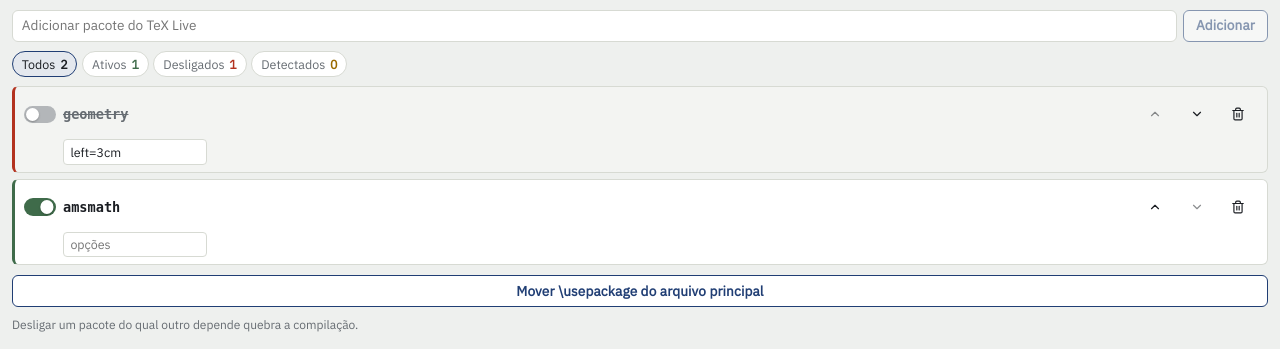
Scenario: PackagesPanel › re-enables a disabled package and filters by state
Click the button "Desligados 1". click: (200,64)
box: [154, 51, 247, 77]
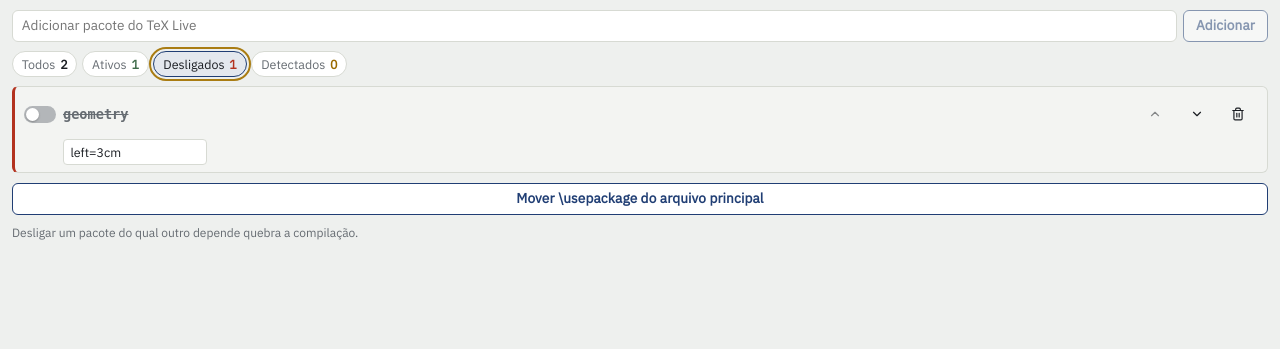
Expected: the text "amsmath" is gone
Click the switch named "Ligar geometry". click: (40,114)
box: [24, 106, 56, 123]
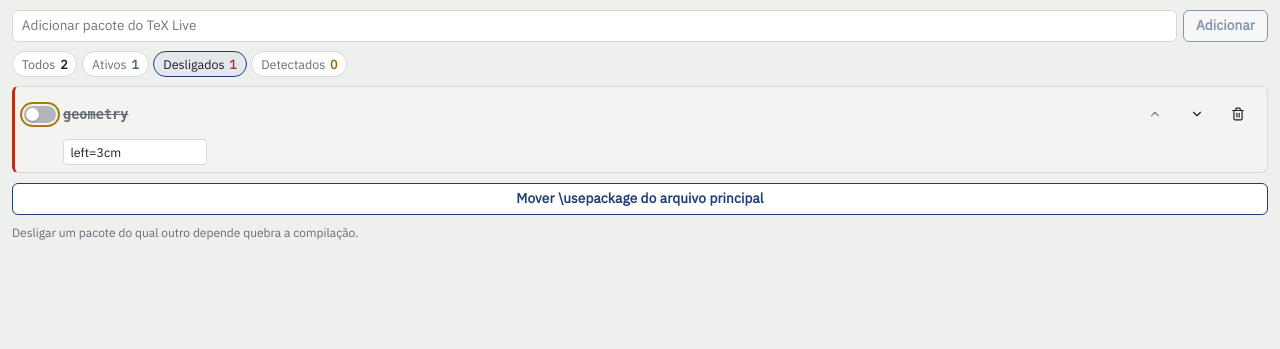
Click the button "Ativos 1". click: (116,64)
box: [82, 51, 149, 77]
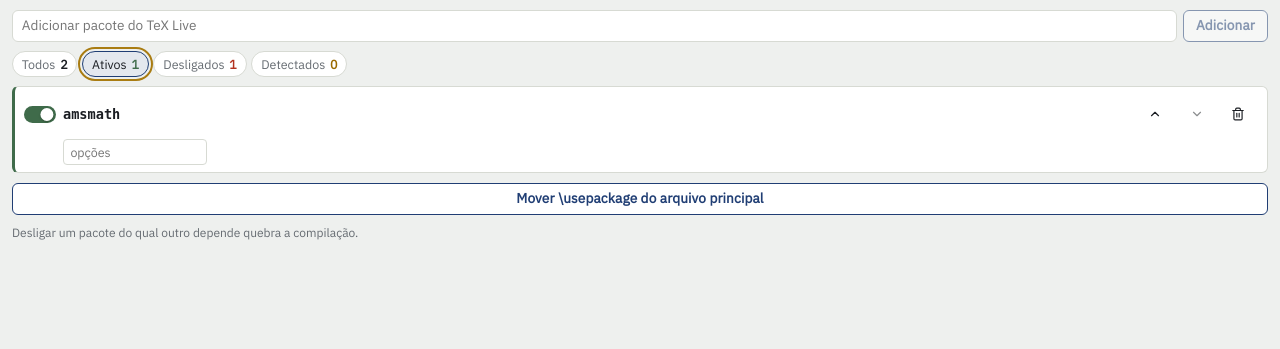
Expected: the text "amsmath" is shown, [63, 106, 120, 122]
